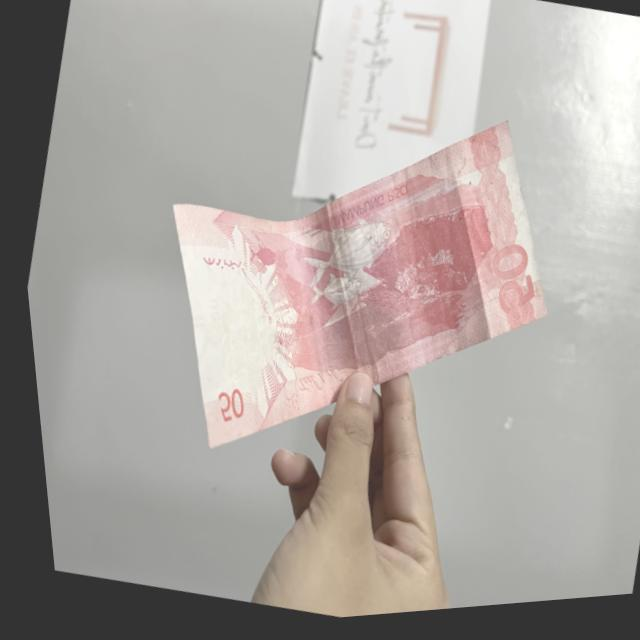see_through_mark: (181, 239, 257, 299)
value_watermark: (192, 295, 221, 332)
